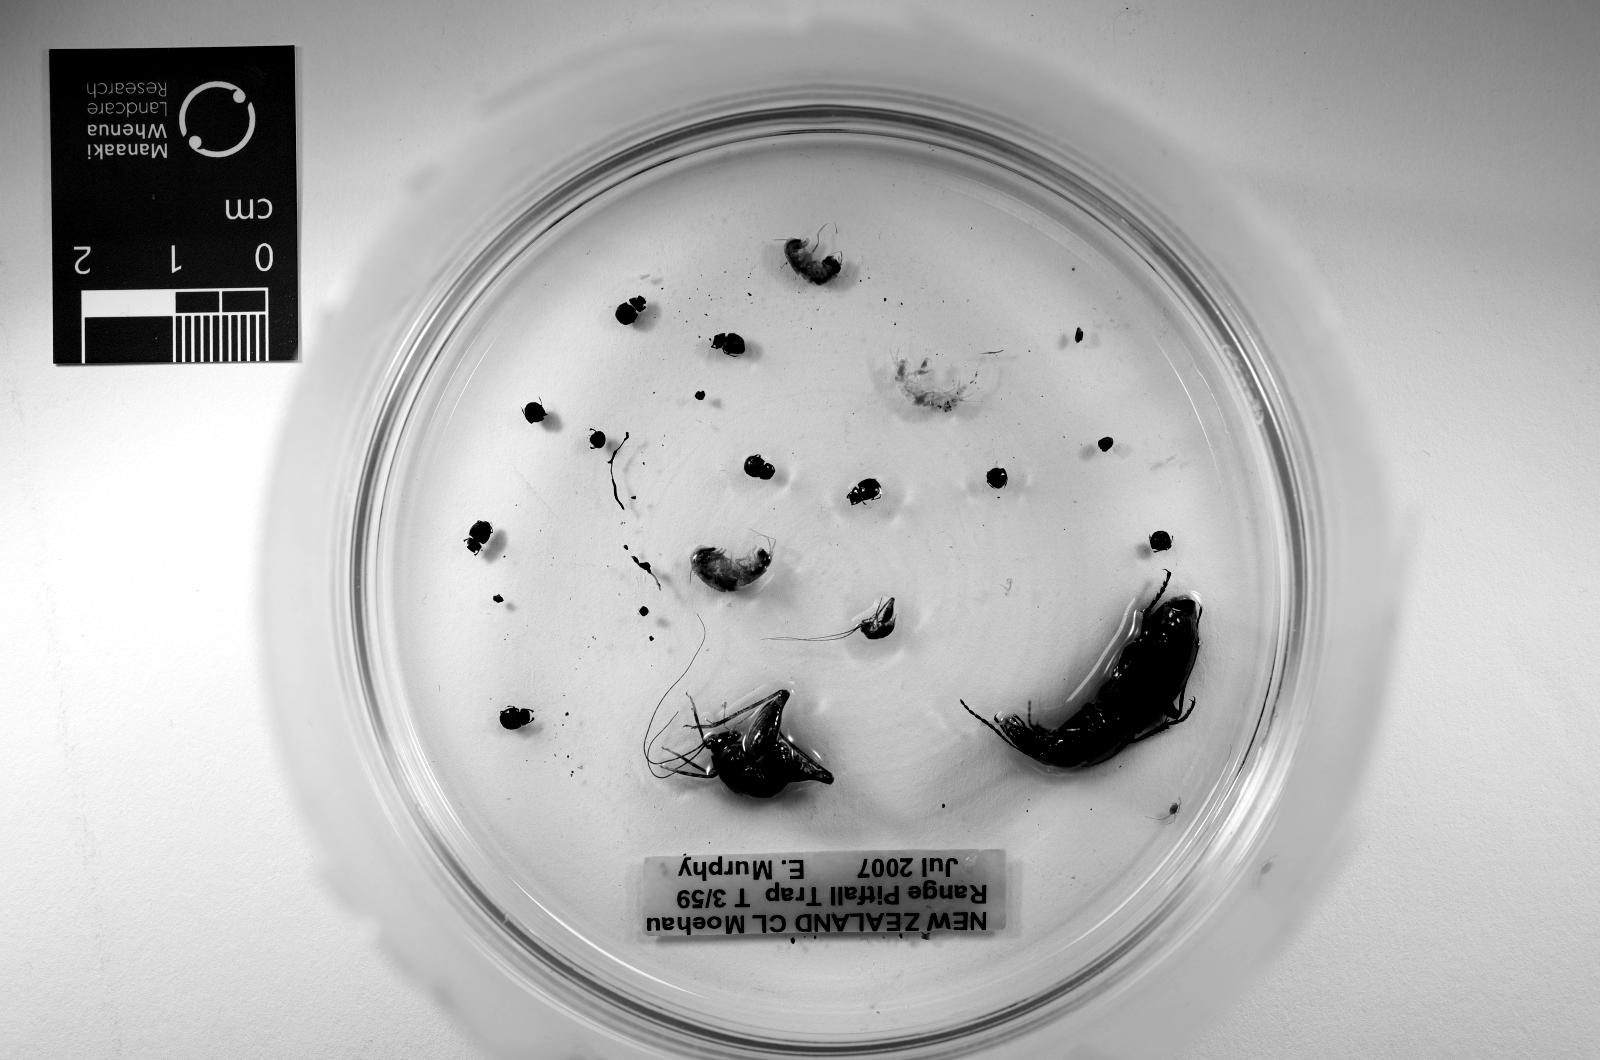amphipoda: (691, 541, 775, 593), (894, 357, 966, 413), (784, 230, 841, 286)
carabidae: (963, 571, 1203, 770)
coleoptera: (616, 295, 647, 327), (847, 478, 881, 506), (466, 522, 494, 552), (500, 707, 535, 730), (713, 332, 744, 354), (744, 457, 775, 478)
orthoptera: (650, 690, 835, 799), (816, 600, 896, 640)
